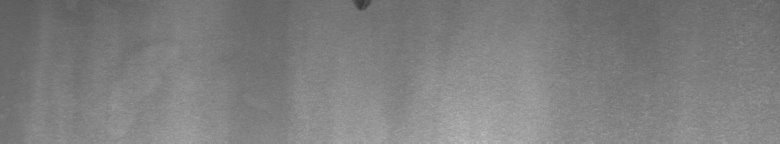fi: (352, 4, 372, 16)
